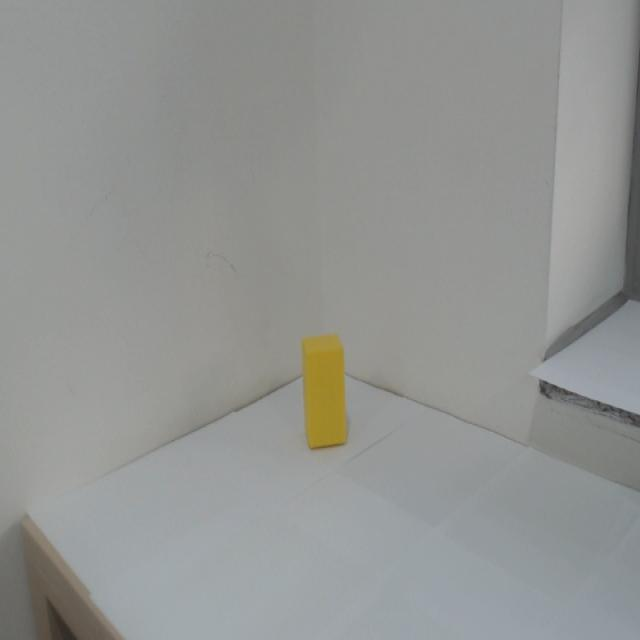cube: (289, 323, 362, 466)
